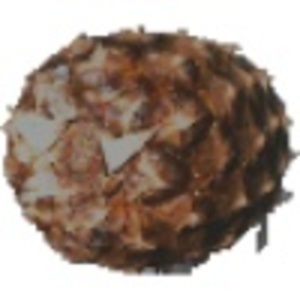abacaxi: (3, 23, 290, 272)
